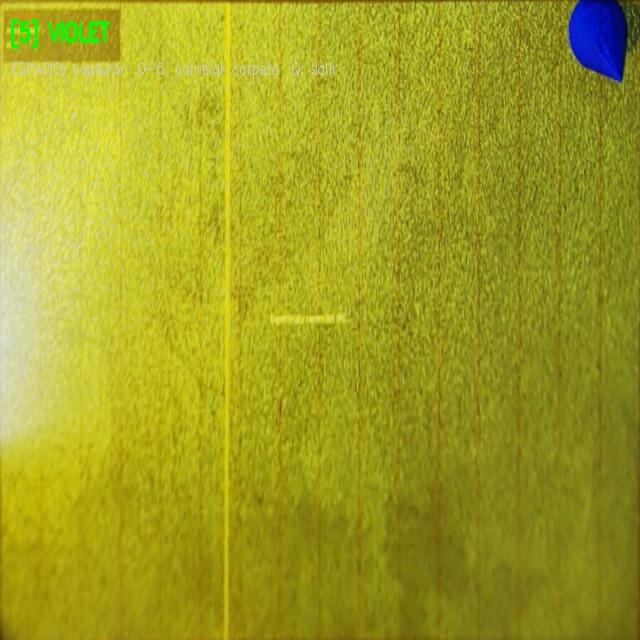violet: (569, 0, 626, 81)
